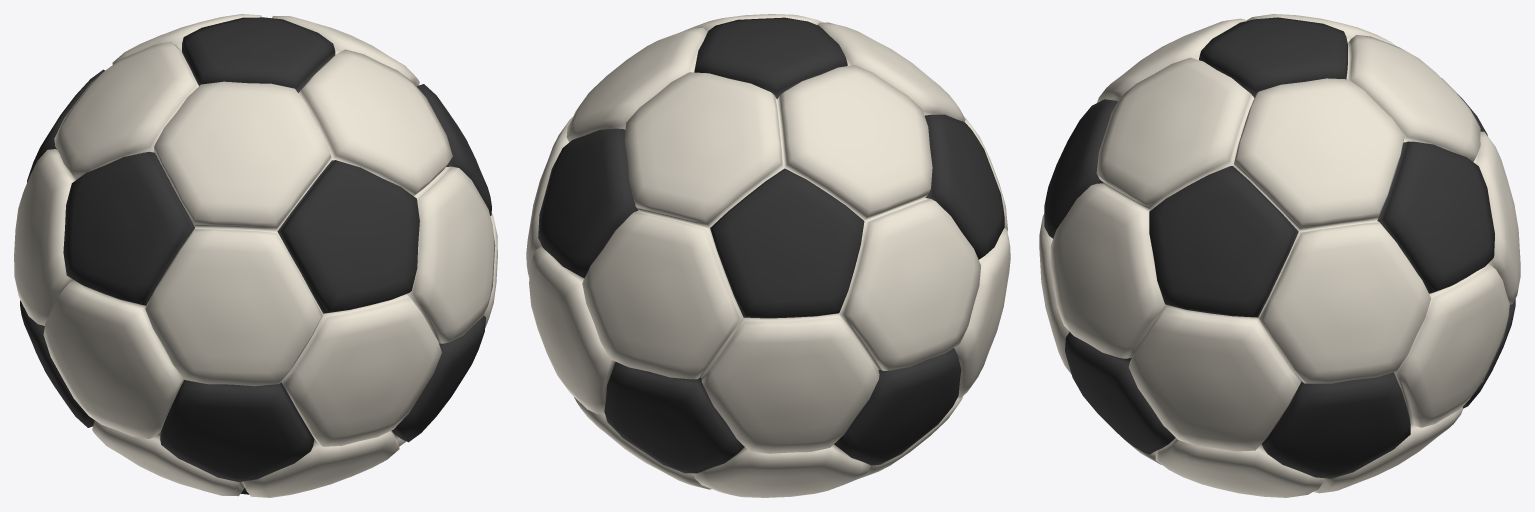
Rendered from soccer.fbx.
The picture shows the model from 3 angles, left to right: view 1: azimuth 30°, elevation 25°; view 2: azimuth 150°, elevation 25°; view 3: azimuth 270°, elevation 25°; orthographic projection.
Parts seen in each view (by area): view 1: Mesh1; view 2: Mesh1; view 3: Mesh1.
Part boxes in pixels (left/top/right/bottom): Mesh1: left=14, top=14, right=497, bottom=497; Mesh1: left=526, top=14, right=1010, bottom=497; Mesh1: left=1039, top=14, right=1520, bottom=497.
Size of the model in its own units: 3.21 by 3.21 by 3.22.
